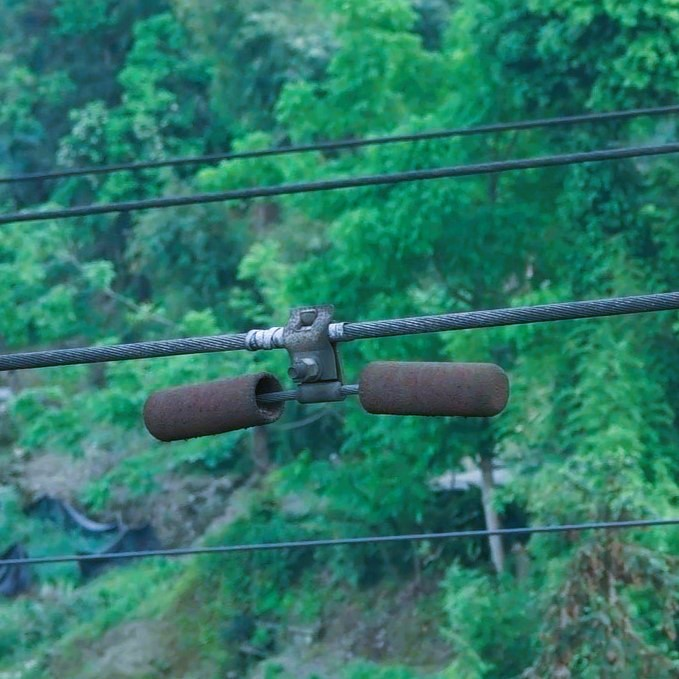Shockproof hammer: (132, 290, 520, 448)
